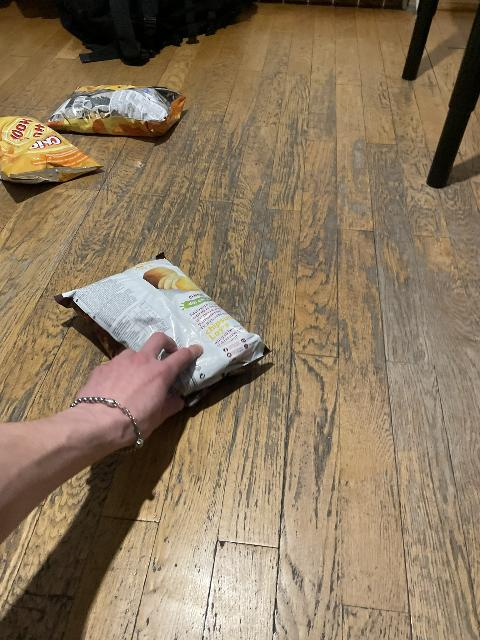Chio Cascaval 125g: (45, 84, 187, 138)
Chio Hula Hoops Cheese 70g: (0, 115, 104, 184)
Lays Beef Grilled Ribs 125g: (55, 256, 268, 393)
